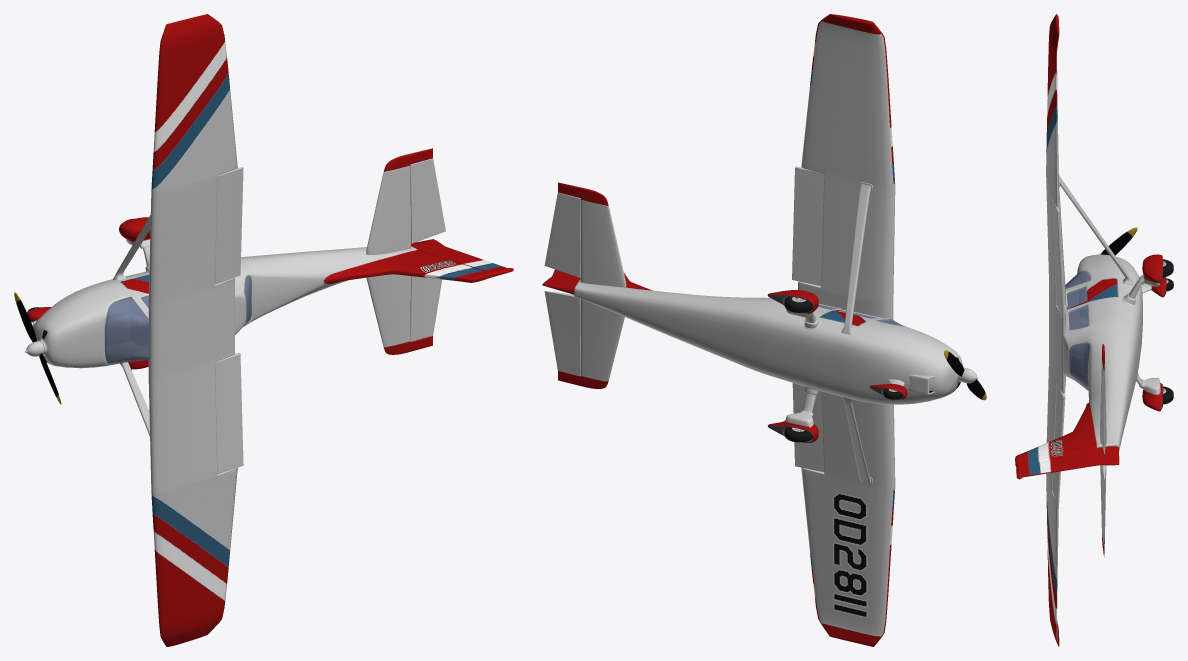
The model's file is airplane.obj.
3 renders of one model, left to right at view 1: azimuth 30°, elevation 25°; view 2: azimuth 150°, elevation 25°; view 3: azimuth 270°, elevation 25°, orthographic.
Parts seen in each view (by area): view 1: 11804_Airplane_body, 11804_Airplane_glass; view 2: 11804_Airplane_body; view 3: 11804_Airplane_body, 11804_Airplane_glass.
Boxes of the visible parts, <box> form: 11804_Airplane_body: <box>14,14,513,646</box>; 11804_Airplane_glass: <box>105,275,251,365</box>; 11804_Airplane_body: <box>542,14,986,646</box>; 11804_Airplane_body: <box>1015,14,1173,646</box>; 11804_Airplane_glass: <box>1065,271,1089,390</box>.
Bounding box in the file's own units: 827 × 1094 × 256.
Materials: 2 (2 with a texture image).
